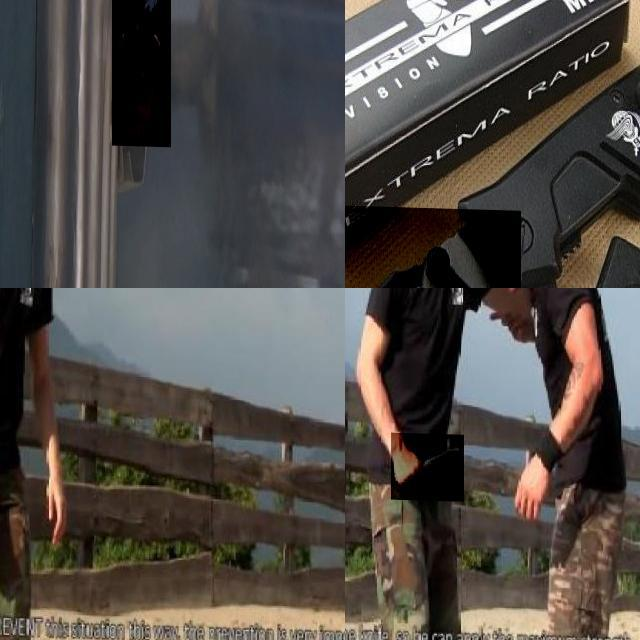-: (391, 431, 464, 499), (0, 464, 35, 538)
gun-knife-thesis - v11 Yolov5 augmented: (111, 0, 171, 145)
